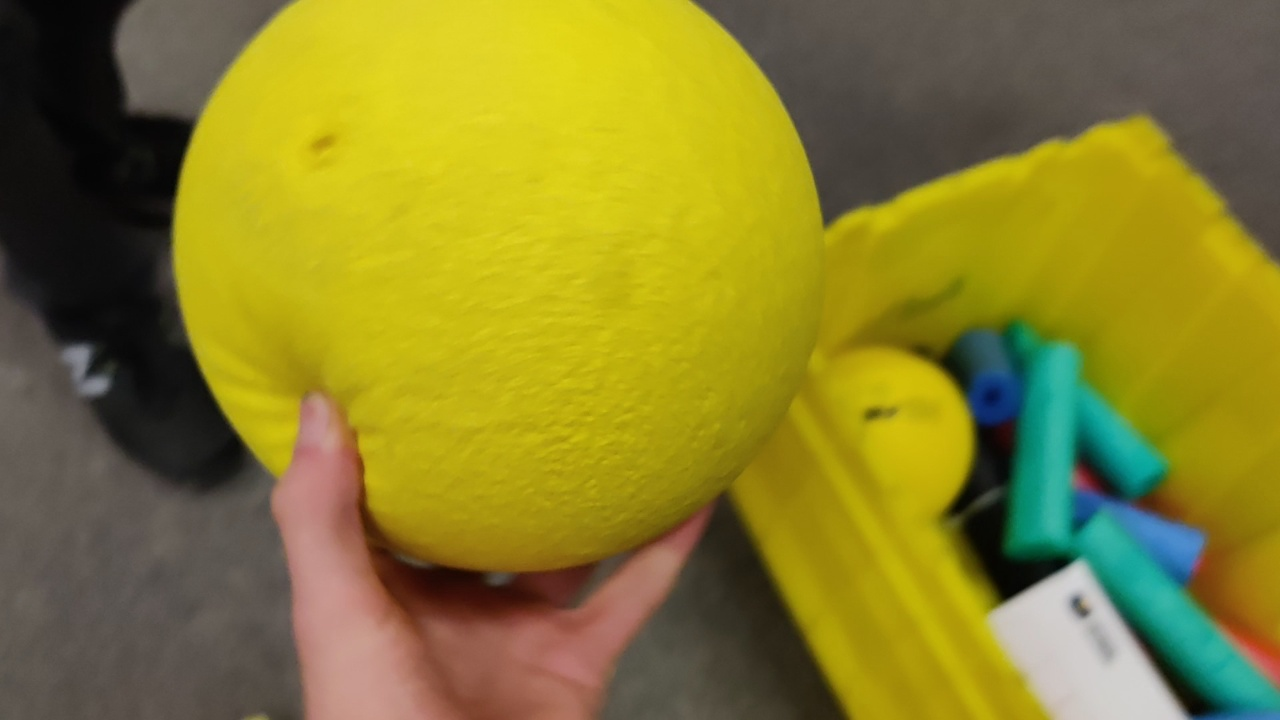Ball: (168, 3, 821, 552)
